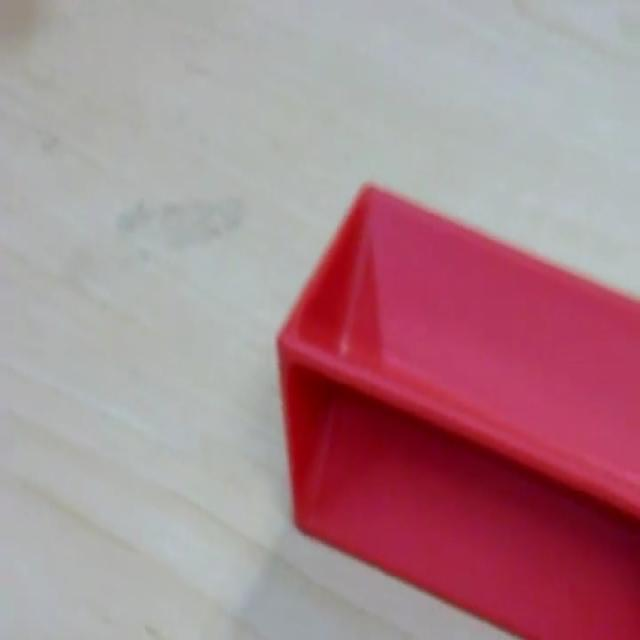red_block: (274, 179, 638, 636)
